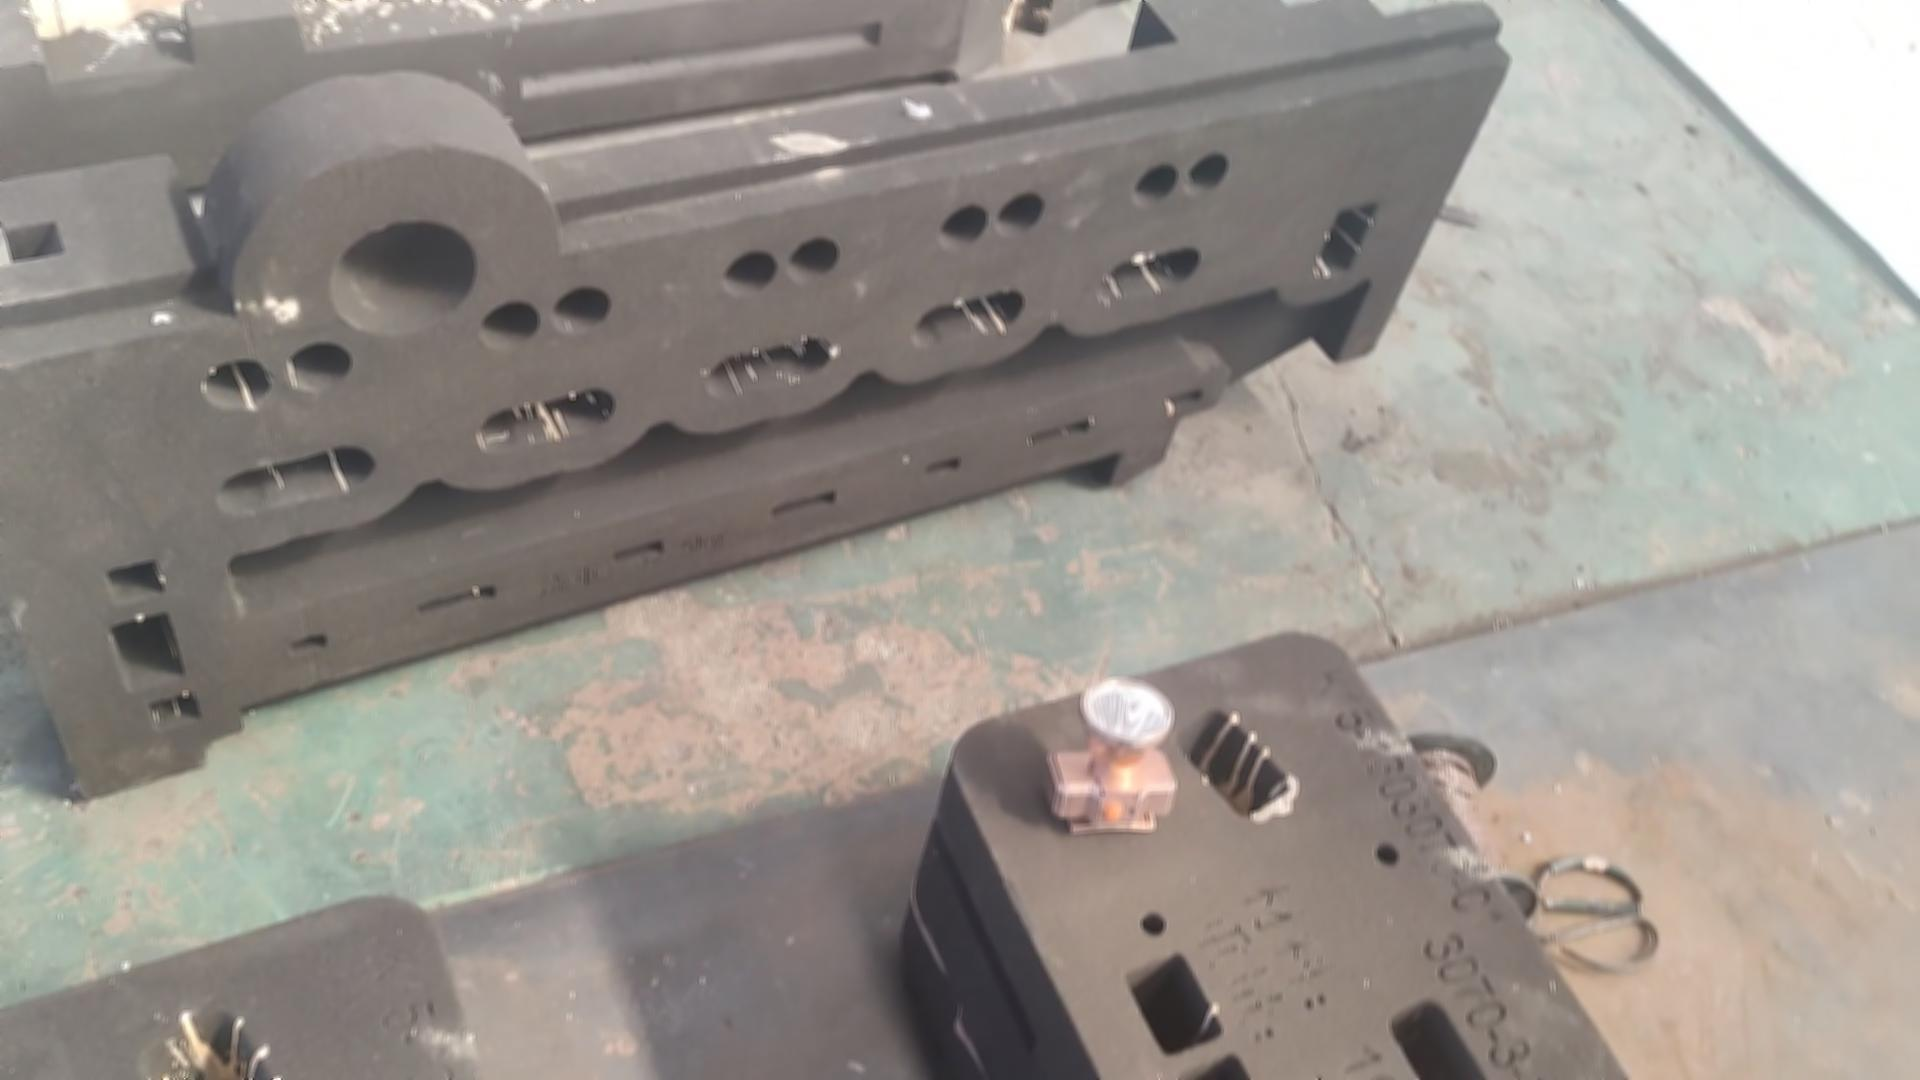pouring hole: (331, 222, 477, 338)
